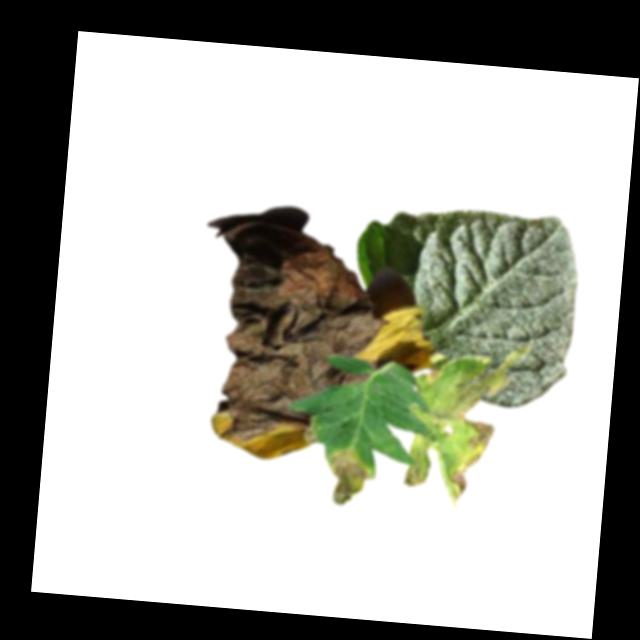Late_blight: (208, 238, 393, 469), (401, 359, 506, 505), (356, 303, 438, 382), (323, 443, 377, 507)
healthy: (343, 199, 584, 415)
